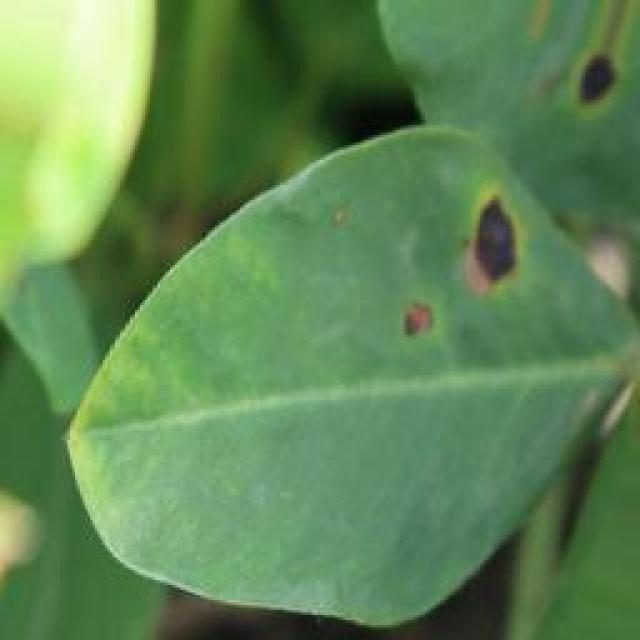Yellowish: (357, 180, 564, 371), (554, 26, 632, 136)
